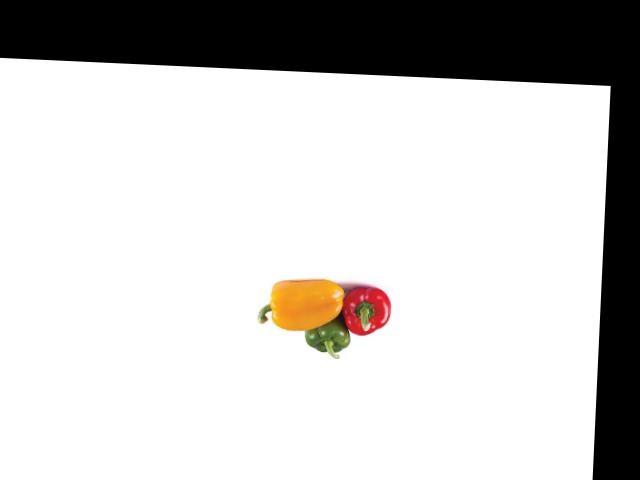bell_pepper: (299, 310, 355, 359)
